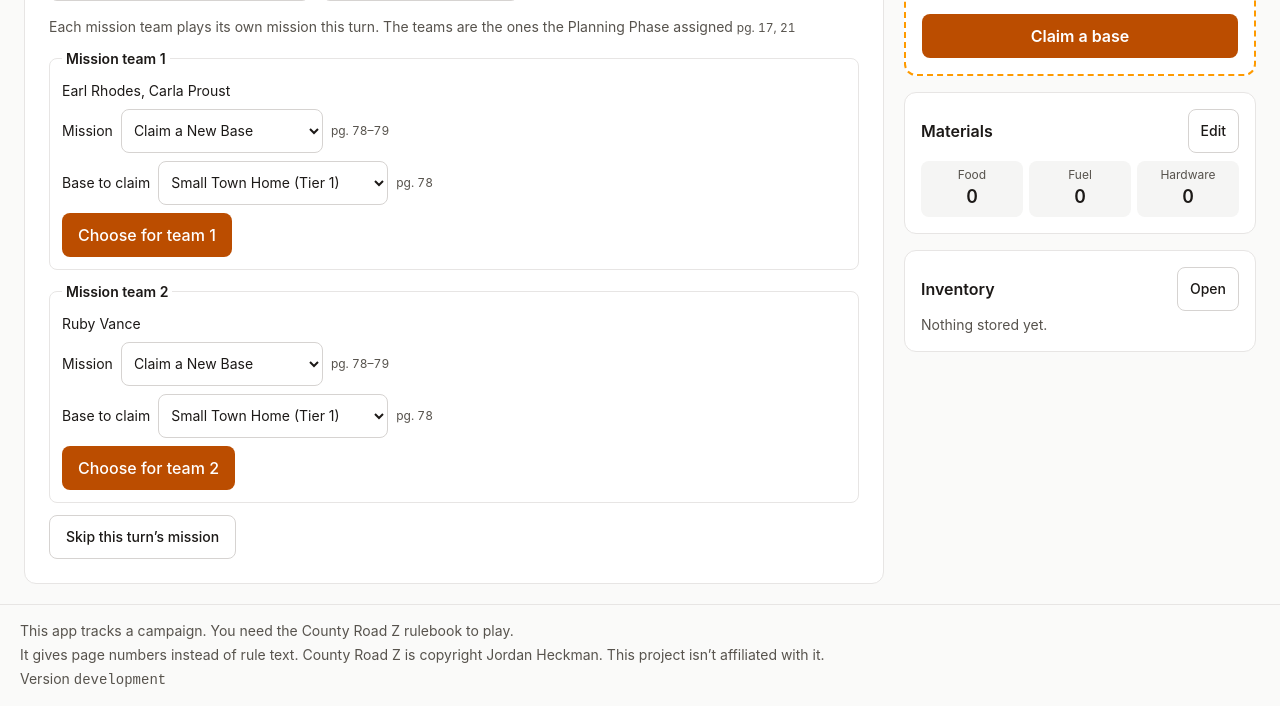
it: Select Mission (pg. 17; Z4-2) › asks Gather Materials for the type it takes the rest in (pg. 80)
The image size is (1280, 706).
(page scrolled)
expect the field labelled "The rest in" is not shown: met
Select "Gather Materials" in the 2nd dropdown labelled "Mission" at (222, 364), box [121,342,323,386]
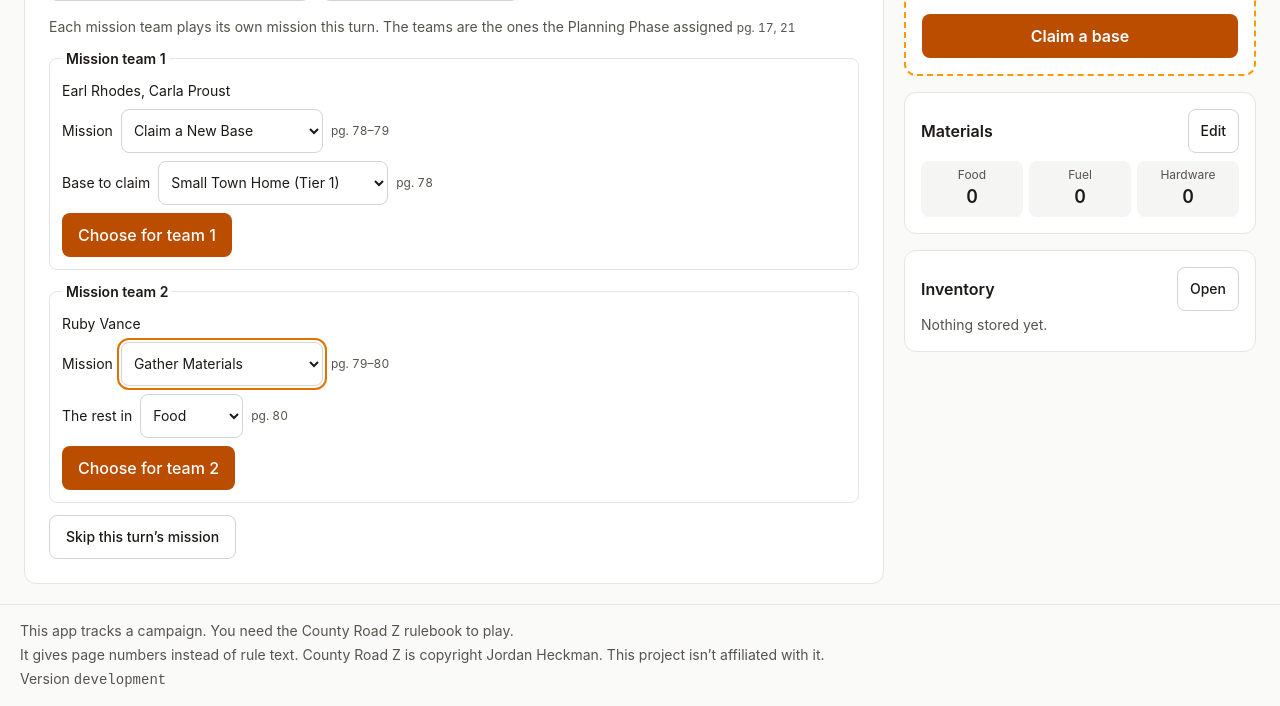
Select "Fuel" in the dropdown labelled "The rest in" at (192, 416), box [140,394,243,438]
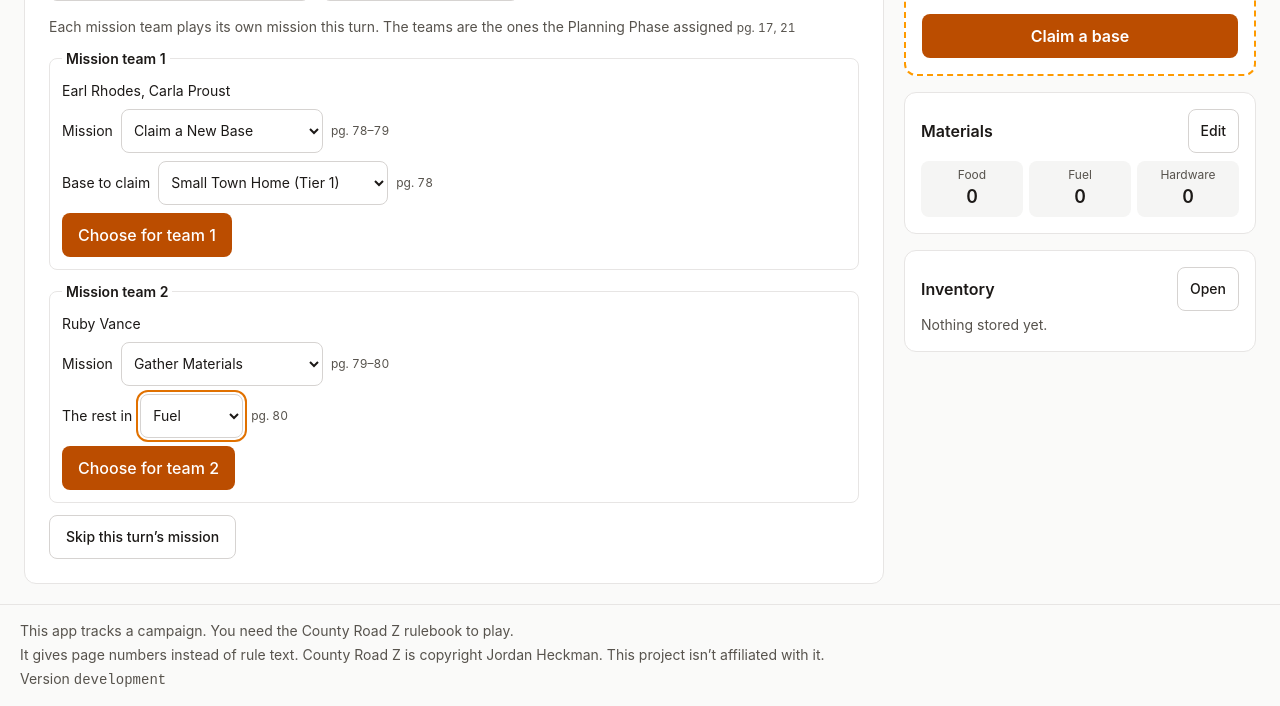
Click the button "Choose for team 2" at (148, 468), box [62,446,235,490]
(page scrolled)
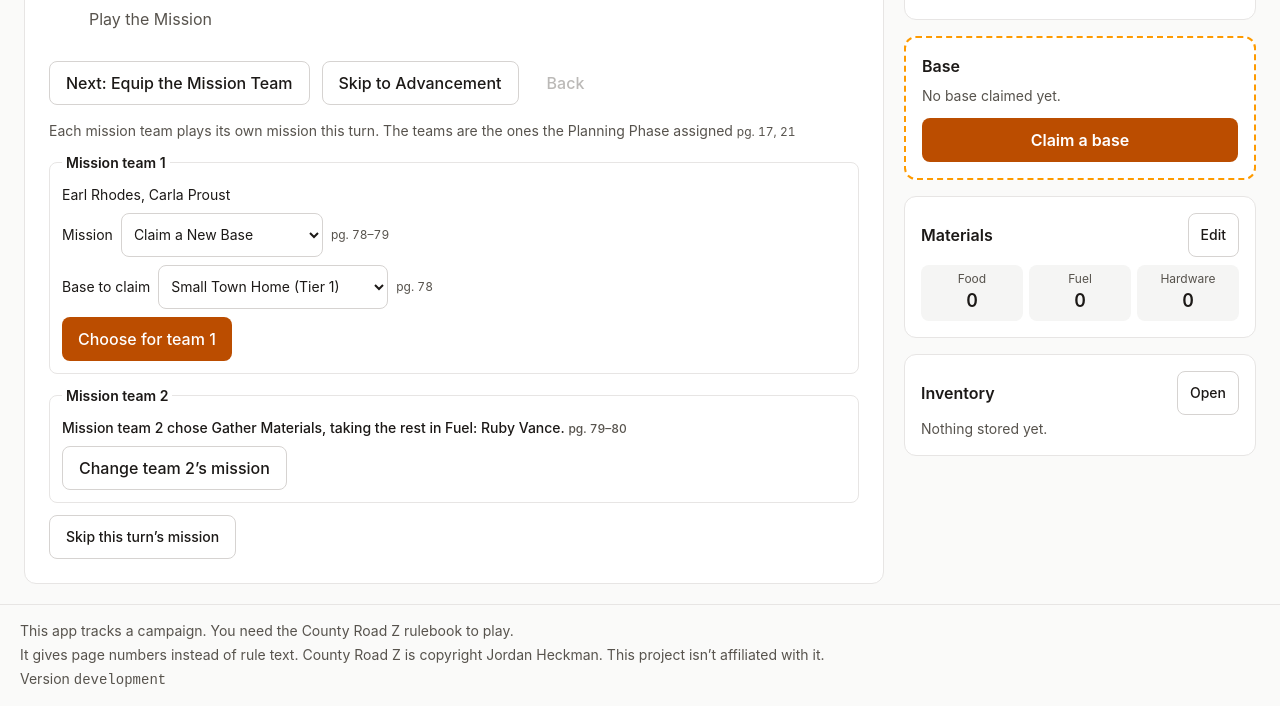
expect the text "chose Gather Materials, taking the rest in Fuel: Ruby Vance." is shown: met, box [62,418,565,436]
